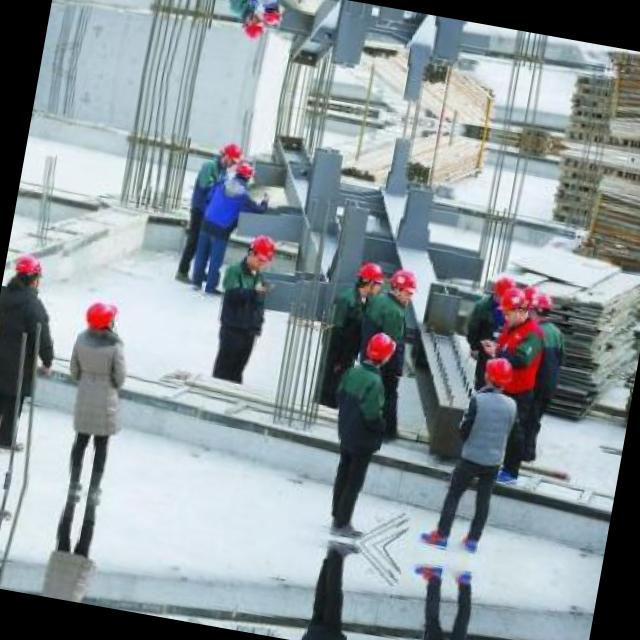helmet: (383, 264, 422, 312), (82, 296, 122, 338), (475, 352, 515, 393), (494, 285, 532, 327), (243, 227, 277, 273), (362, 326, 396, 372), (12, 247, 46, 290), (348, 256, 382, 296), (238, 6, 265, 44), (215, 134, 242, 171), (527, 290, 552, 324), (229, 156, 255, 184), (256, 0, 282, 27)
